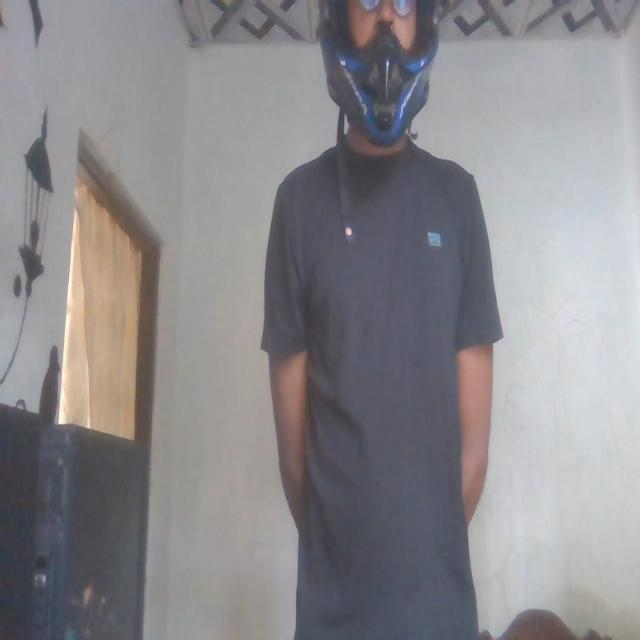Helmet_Wearer: (314, 0, 464, 163)
Person: (266, 0, 502, 640)
